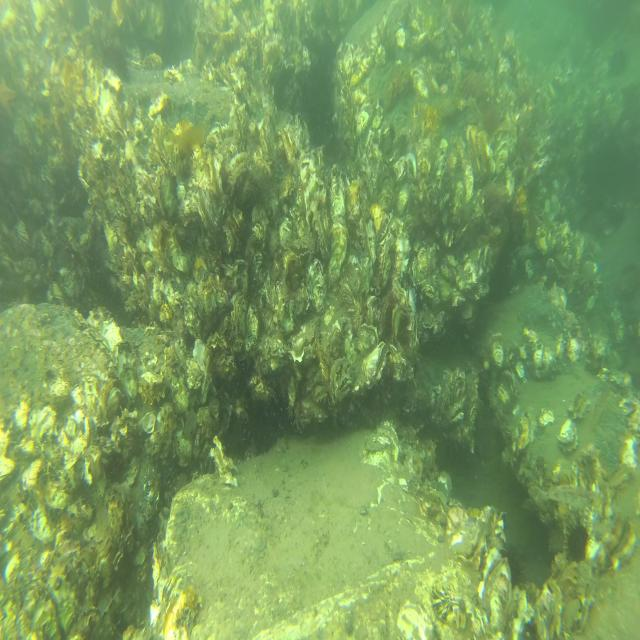echinus: (564, 519, 590, 564), (501, 543, 526, 588)
holothurian: (487, 369, 499, 415)
